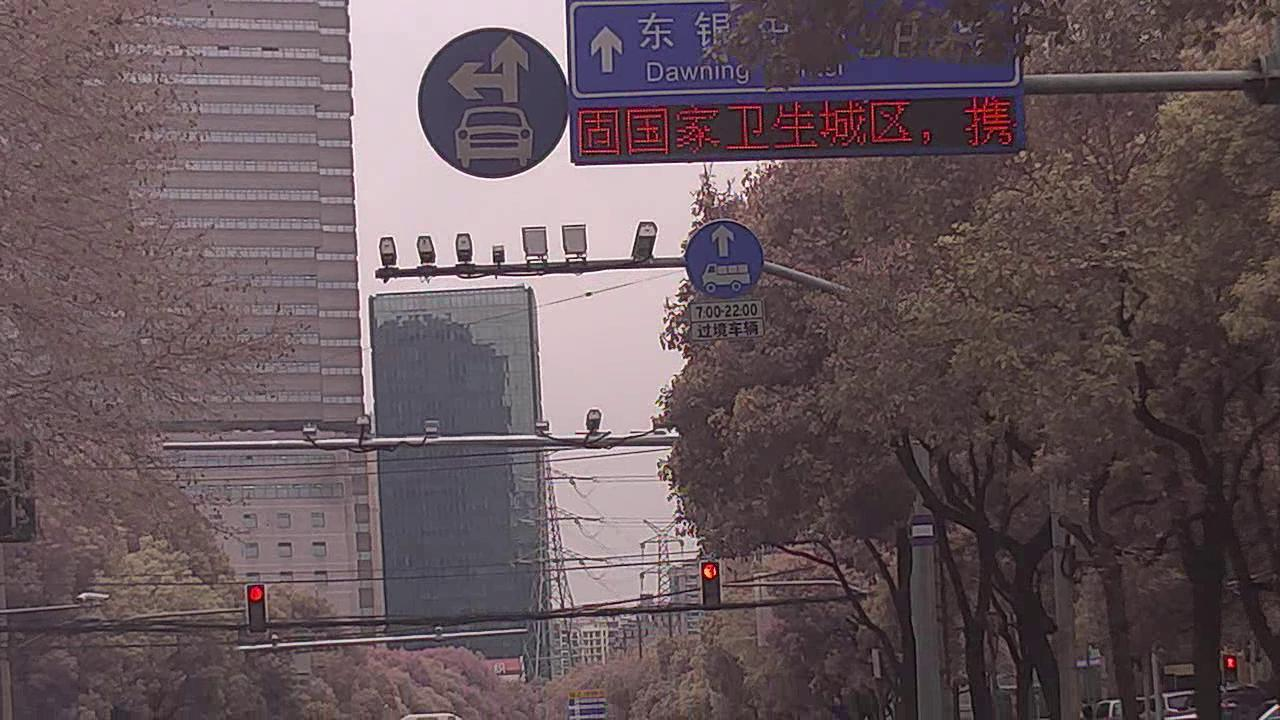traffic_light: (700, 563, 723, 606), (248, 583, 268, 631)
